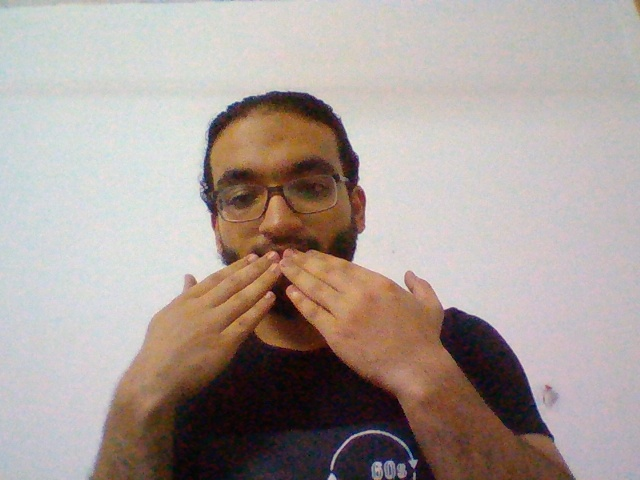Thanks: (102, 248, 472, 404)
